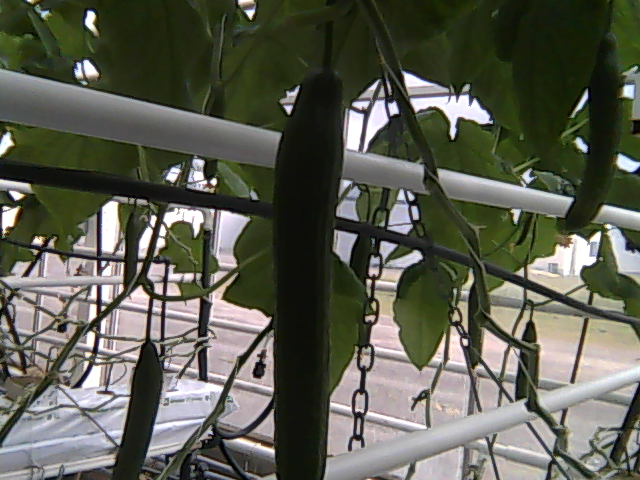concombre: (270, 60, 349, 480), (560, 31, 623, 238)
